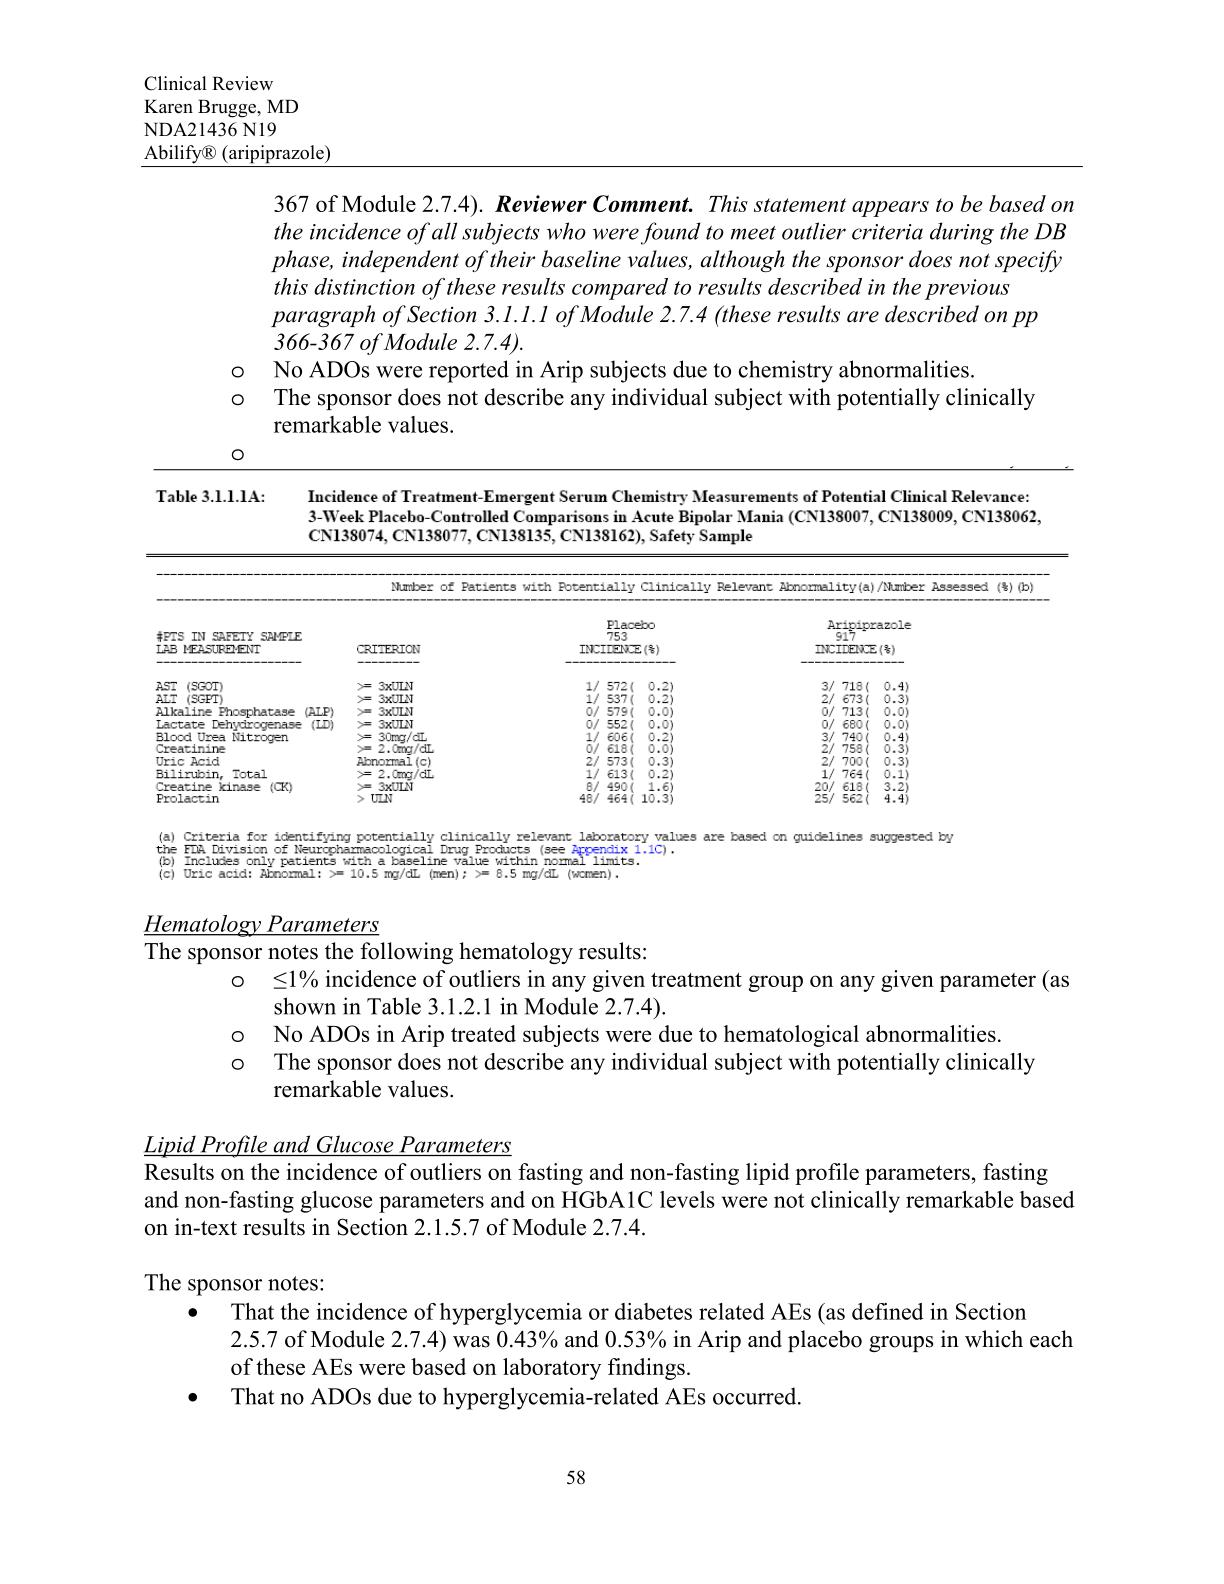partial_lined_merged_cells: (156, 572, 1052, 811)
